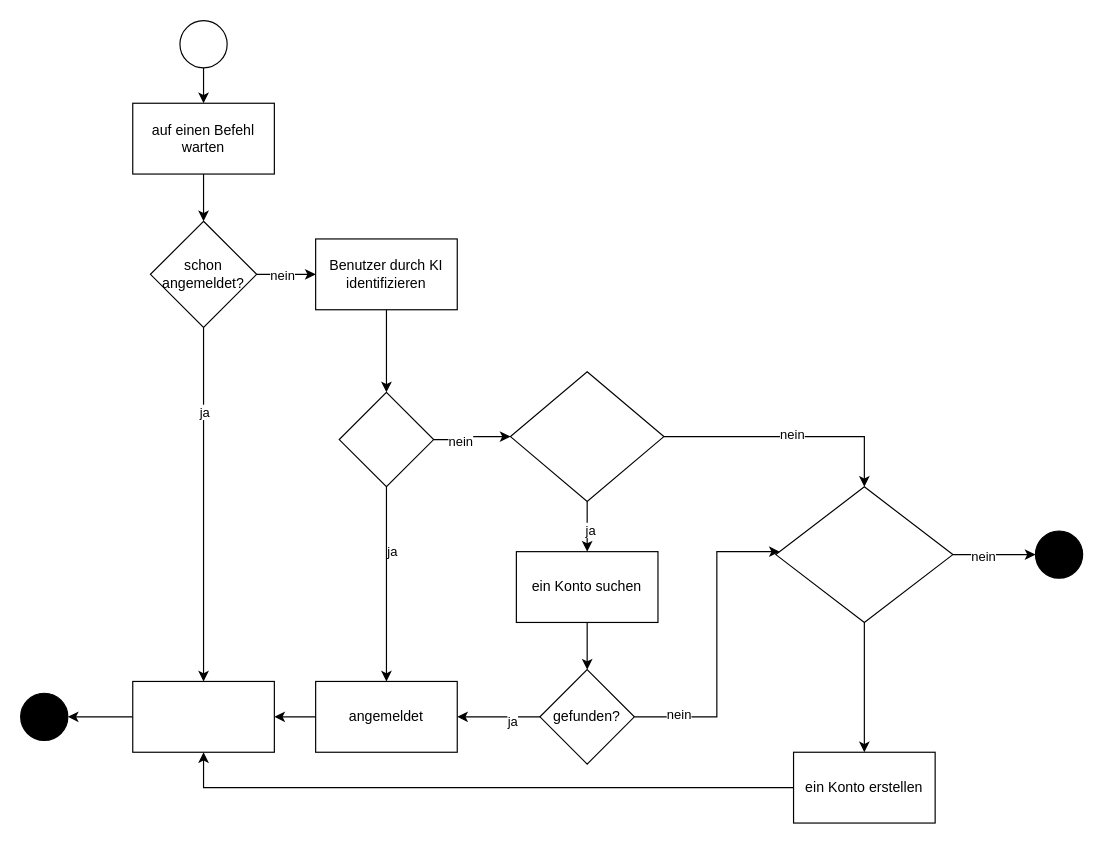
Image size: 1103x844. Some labels were removed from this diagram. Here are the shapes that lost their labels. From the top down, the box of each, then its label:
(338, 391, 434, 487): richtiger Name?
(509, 371, 664, 502): Haben Sie ein Konto?
(775, 486, 953, 622): Wollen Sie ein Konto erstellen?
(132, 680, 274, 752): Befehl bearbeiten
